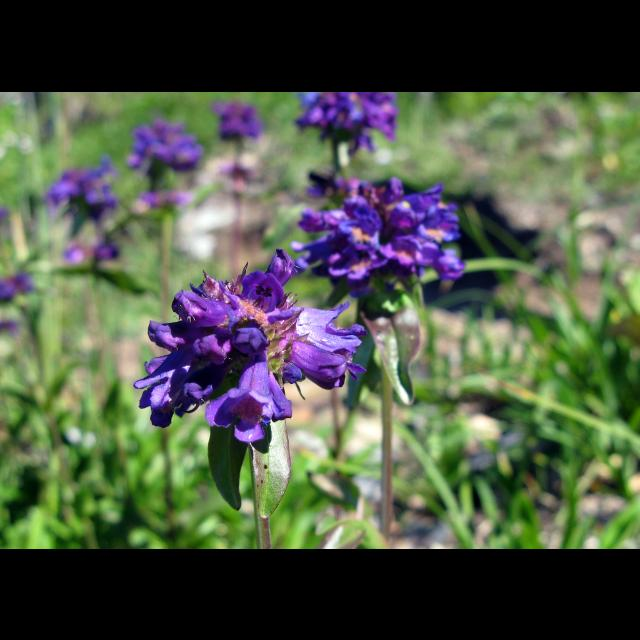Flower: (130, 178, 470, 430), (47, 118, 205, 262), (294, 91, 398, 162), (208, 362, 292, 438), (220, 101, 260, 142), (0, 267, 48, 301)
